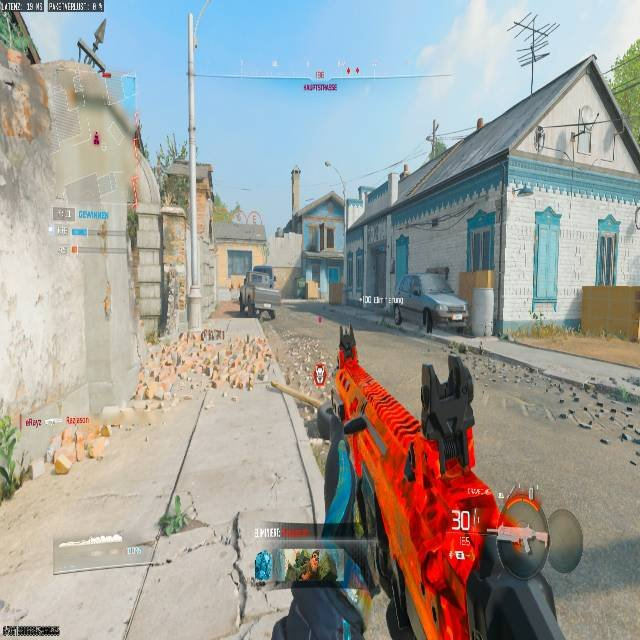player: (255, 550, 270, 584)
